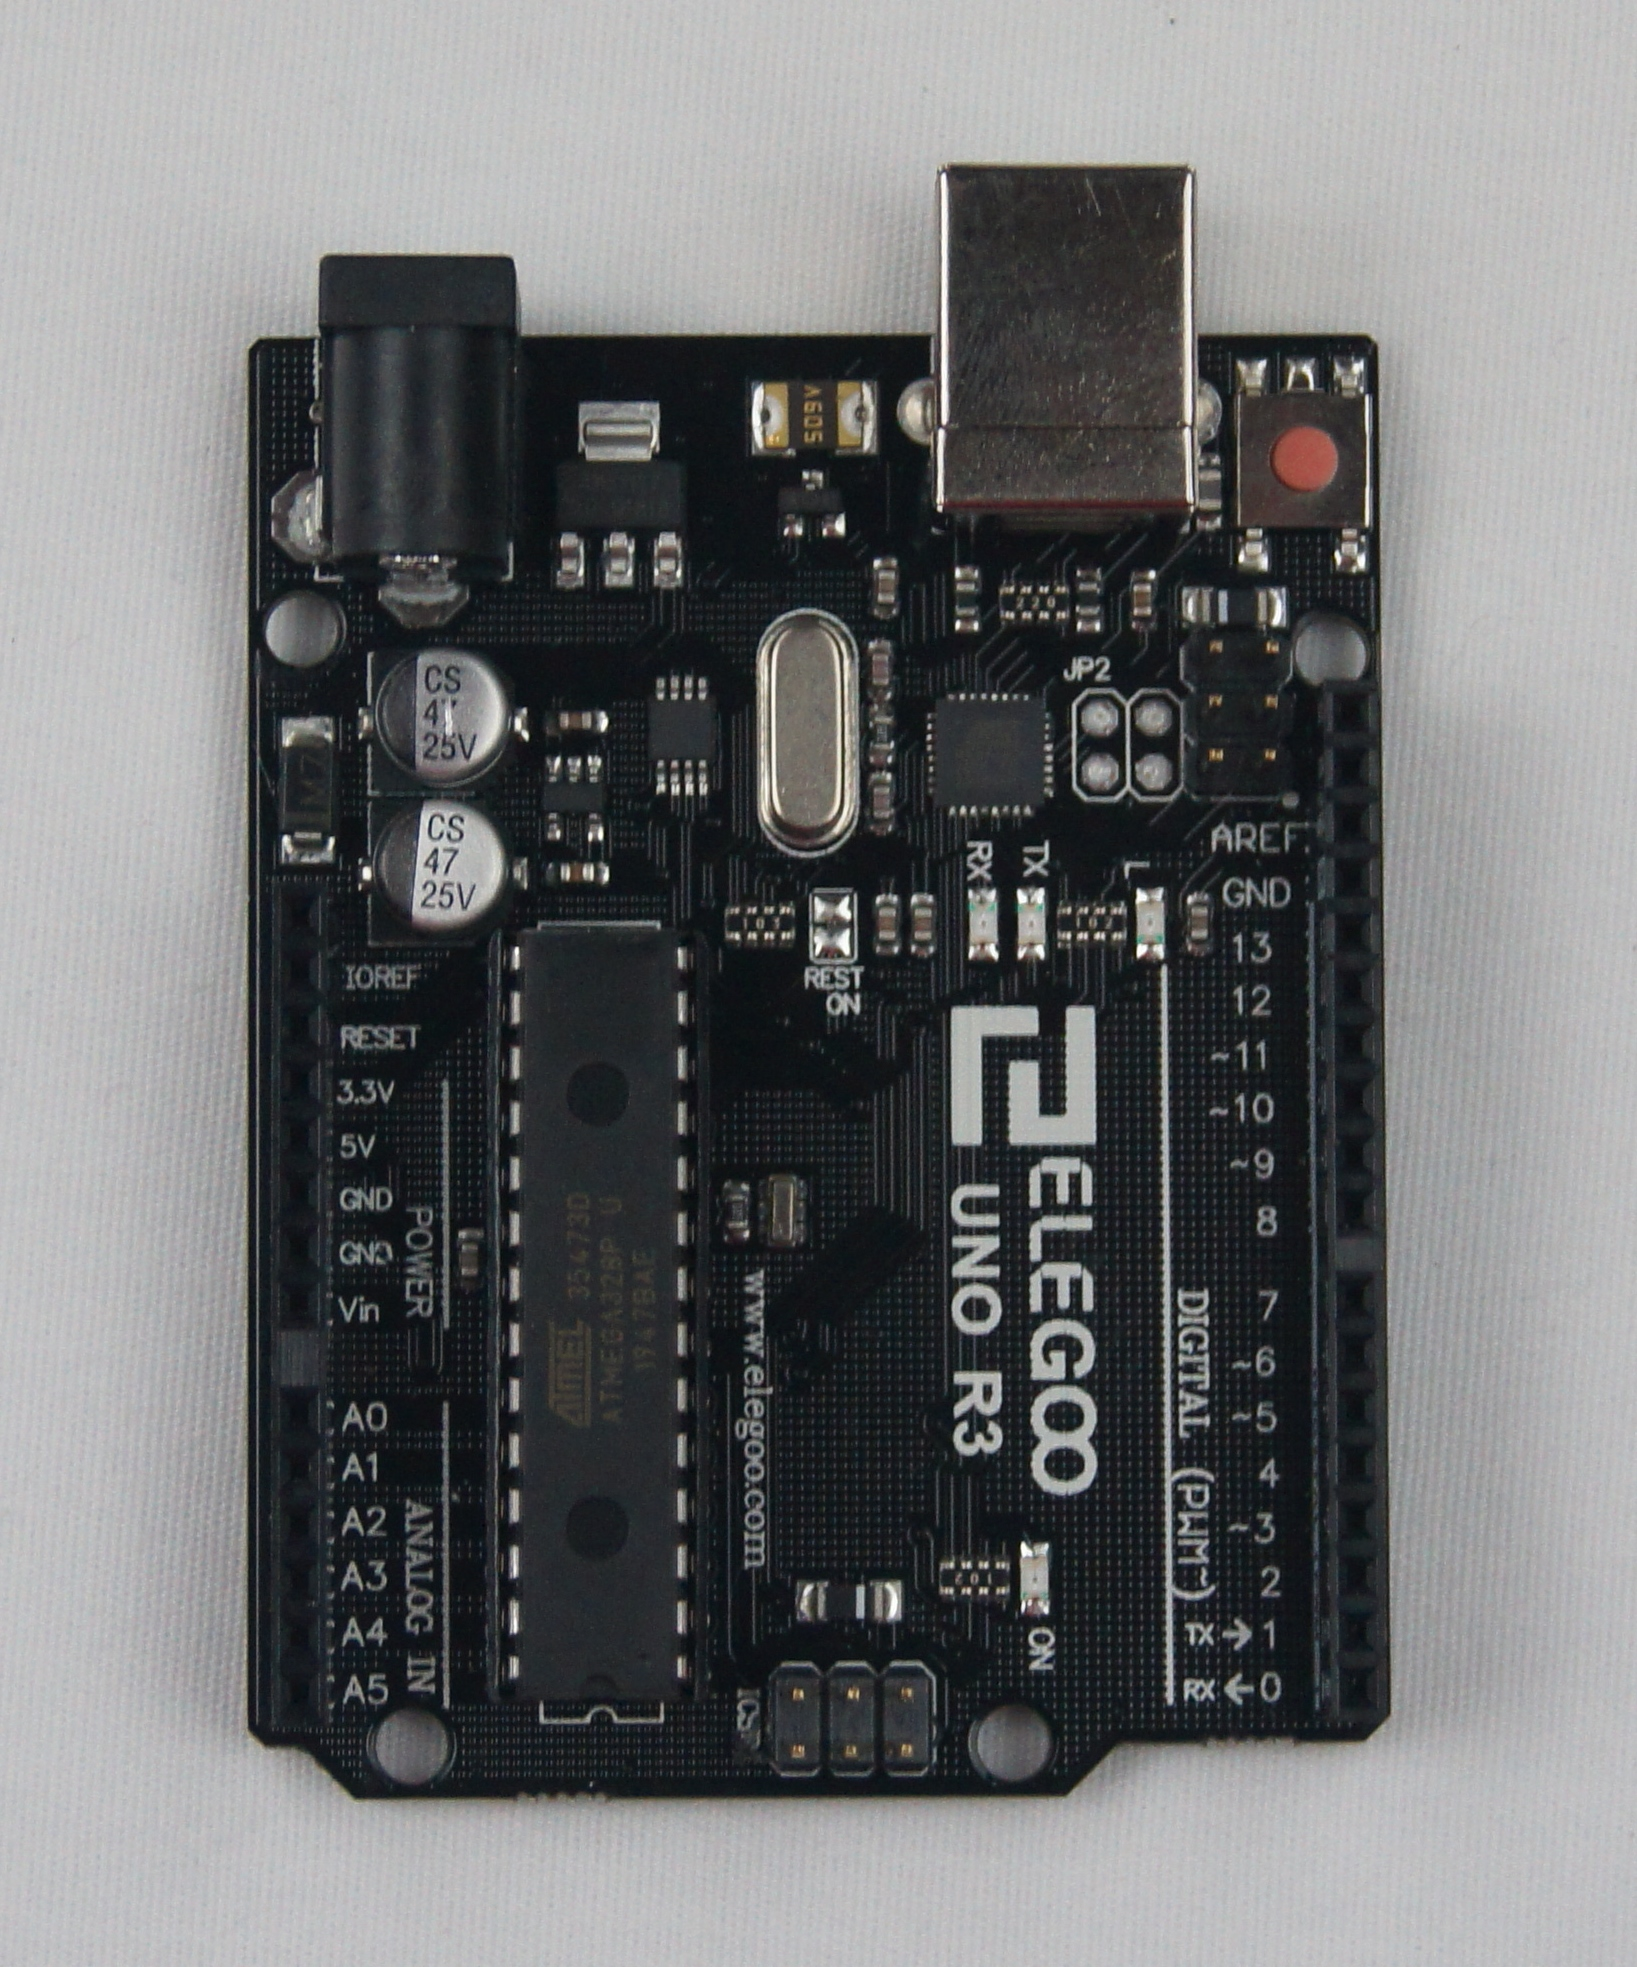kondensator: (359, 639, 505, 778), (359, 799, 493, 931), (750, 377, 877, 457), (1181, 890, 1230, 969), (547, 701, 616, 745), (552, 858, 627, 895), (866, 769, 900, 845), (866, 559, 907, 621), (1117, 567, 1155, 622), (868, 640, 899, 698), (453, 1225, 480, 1284), (864, 894, 894, 949), (905, 895, 934, 944)
